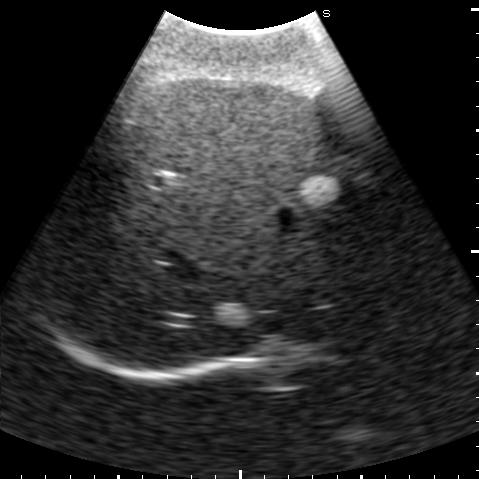S5: (120, 77, 346, 190)
S7: (32, 144, 162, 316)
S8: (83, 159, 386, 372)
Tumor: (300, 176, 341, 204), (213, 303, 253, 328)
